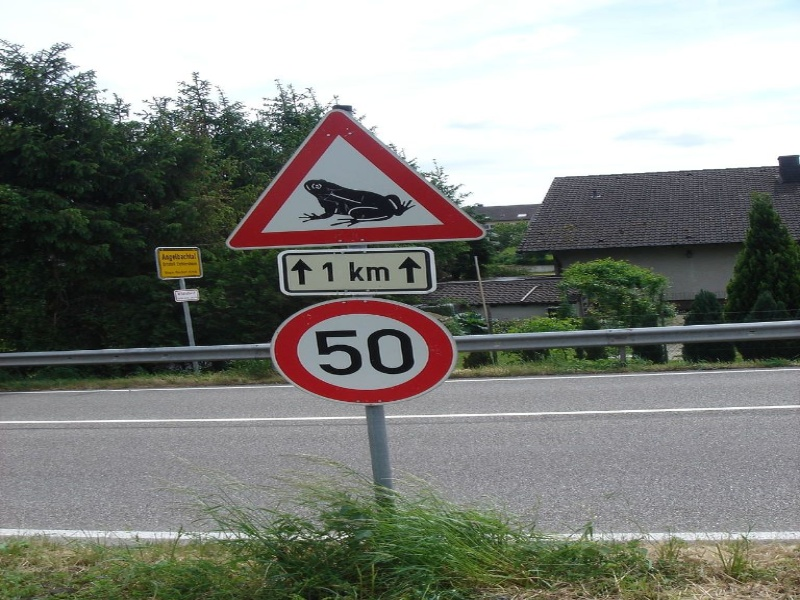speed_limit_50: (270, 305, 477, 418)
